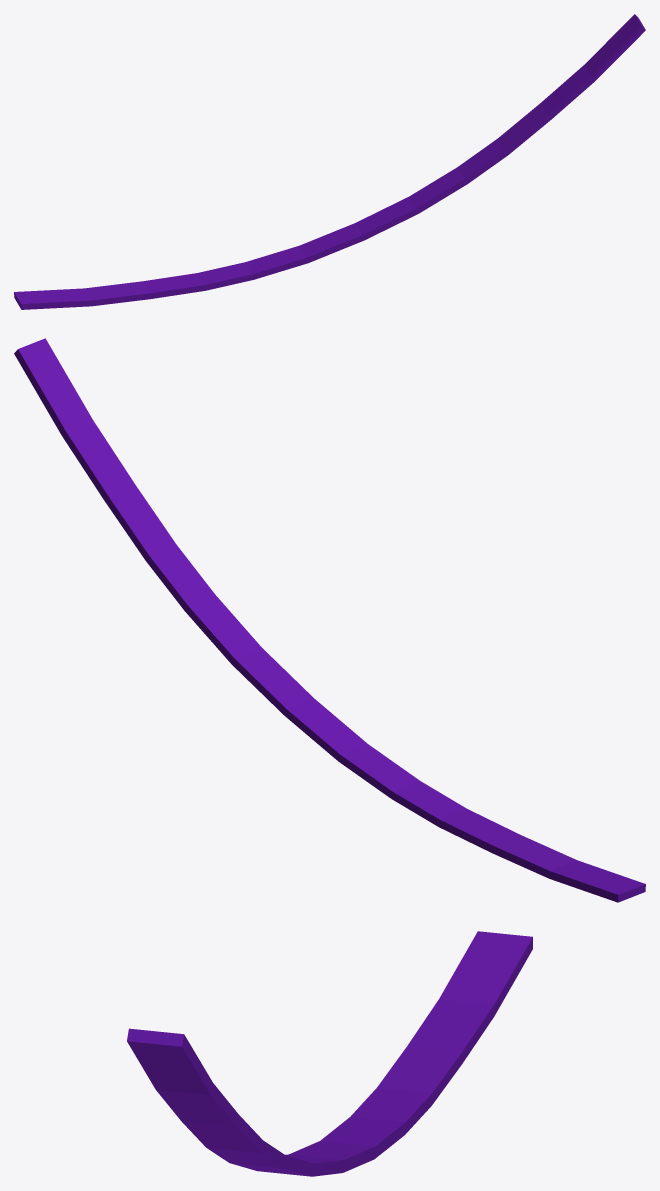
File: Tape_11_chunks.fbx
3 renders of one model, top to bottom at view 1: azimuth 30°, elevation 25°; view 2: azimuth 150°, elevation 25°; view 3: azimuth 270°, elevation 25°, orthographic. The views are drawn at different scales.
Parts seen in each view (by area): view 1: Tape_11_1, Tape_11_3, Tape_11_2, Tape_11_0; view 2: Tape_11_3, Tape_11_1, Tape_11_2, Tape_11_0; view 3: Tape_11_1, Tape_11_3, Tape_11_2, Tape_11_0.
Boxes of the visible parts, x1,y1,x2,y2 form: Tape_11_1: (14,235,326,309); Tape_11_3: (430,14,645,200); Tape_11_2: (325,164,461,236); Tape_11_0: (260,228,376,277); Tape_11_3: (14,338,248,632); Tape_11_1: (315,732,645,902); Tape_11_2: (169,591,318,744); Tape_11_0: (300,685,404,769); Tape_11_1: (342,931,532,1164); Tape_11_3: (127,1028,283,1166); Tape_11_2: (242,1152,362,1176); Tape_11_0: (285,1124,353,1155).
Bounding box in the file's own units: 526 × 205 × 170.
